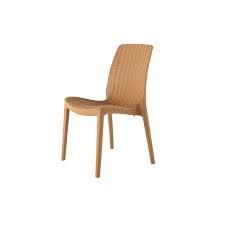chair: (48, 31, 174, 188)
